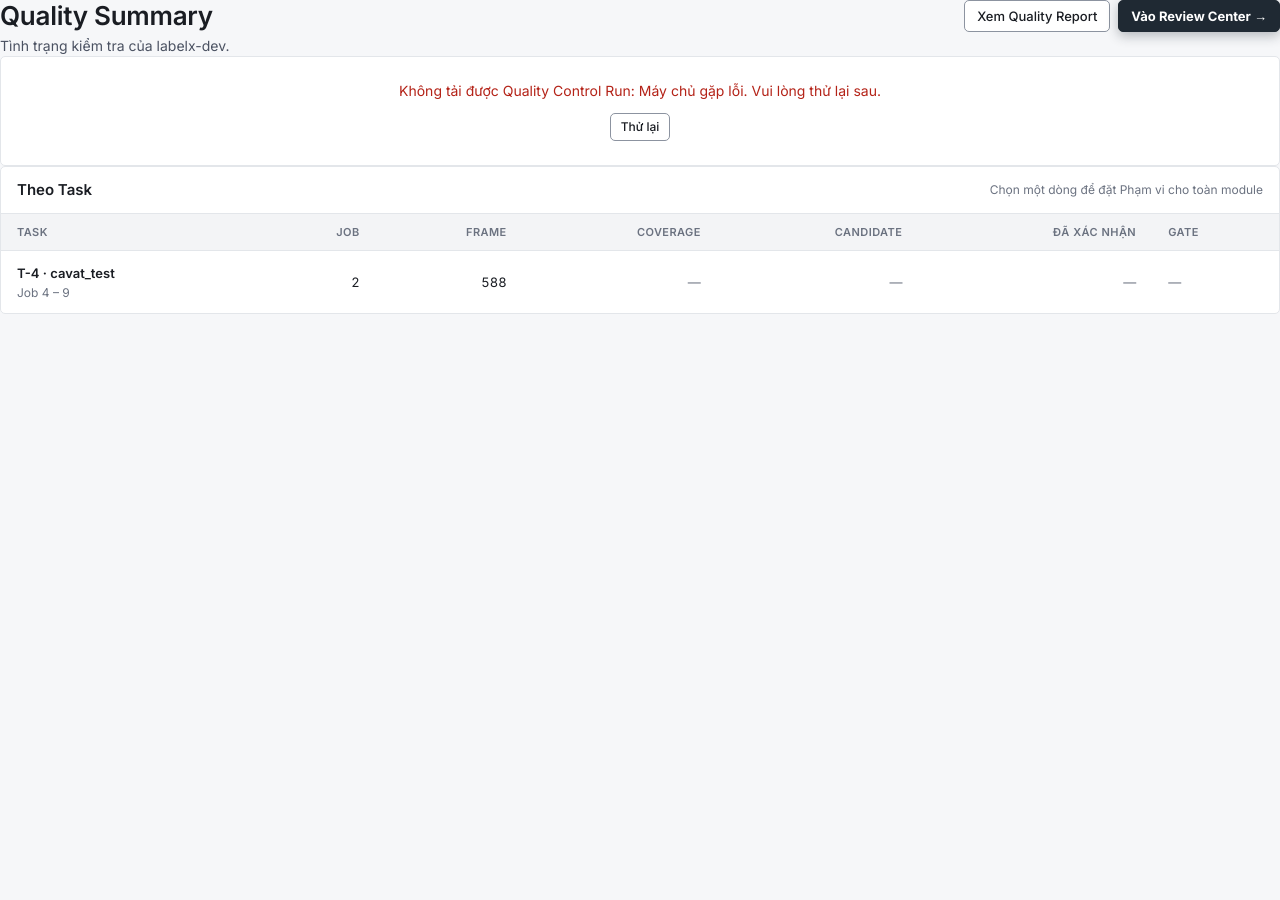
it: Overview: Quality Control Home và Quality Summary dùng dữ liệu thật › Quality Summary › lỗi tải run gần nhất có Thử lại
The width and height of the screenshot is (1280, 900).
expect the text "Không tải được Quality Control Run" is shown: met, box [399, 82, 631, 99]
Step 1. Click the button "Thử lại" → (640, 127), box [610, 113, 670, 141]
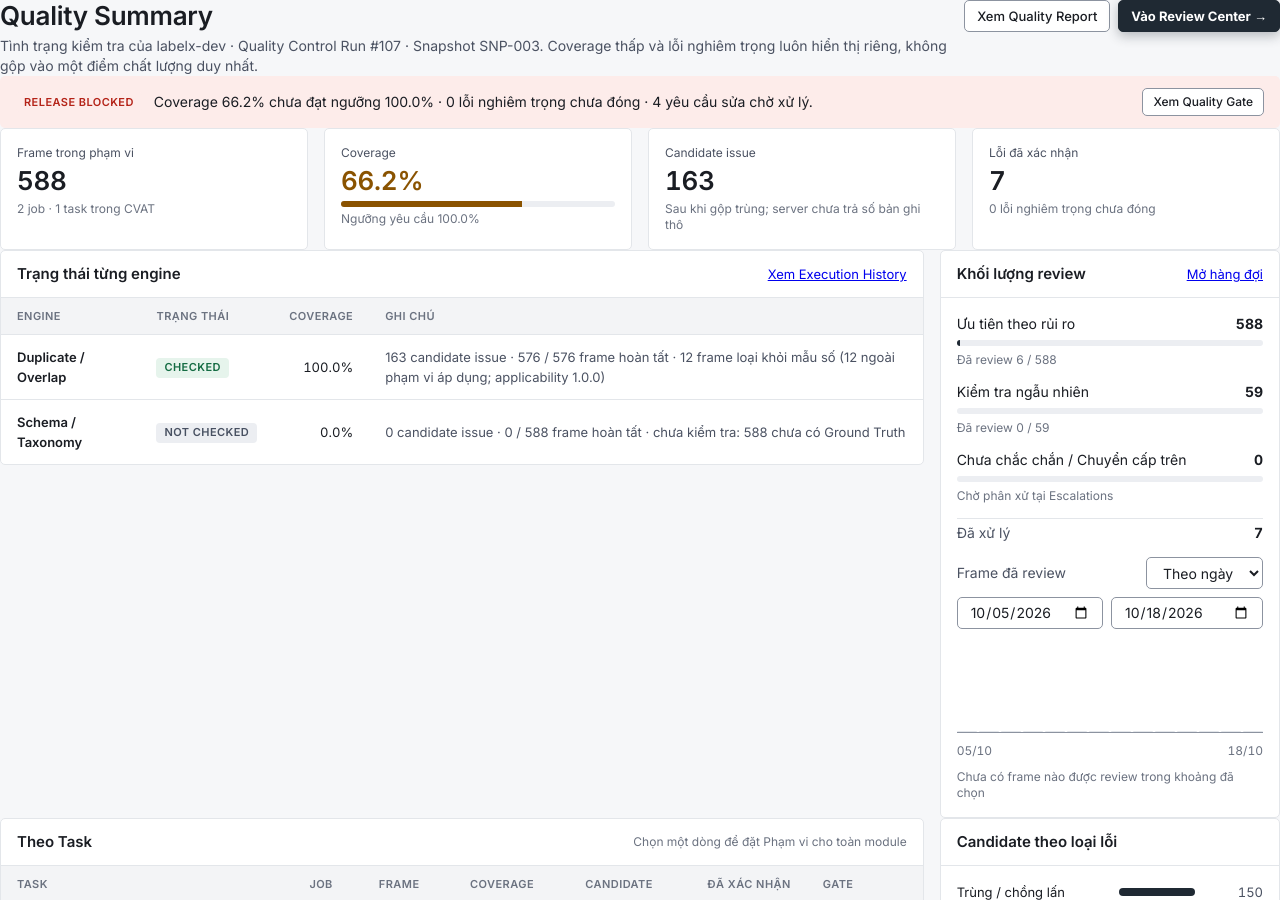
expect the text "Quality Control Run #107" is shown: met, box [0, 37, 947, 74]
